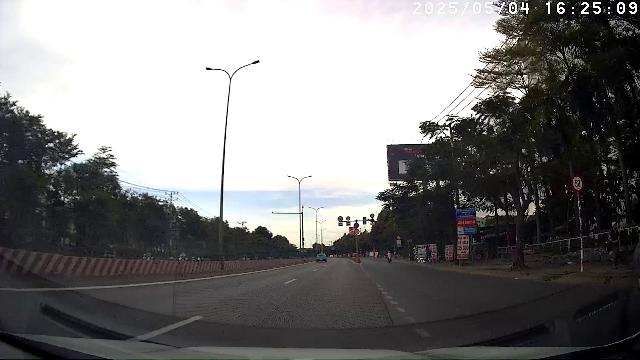127-toc-do-toi-da-50: (569, 172, 586, 193)
